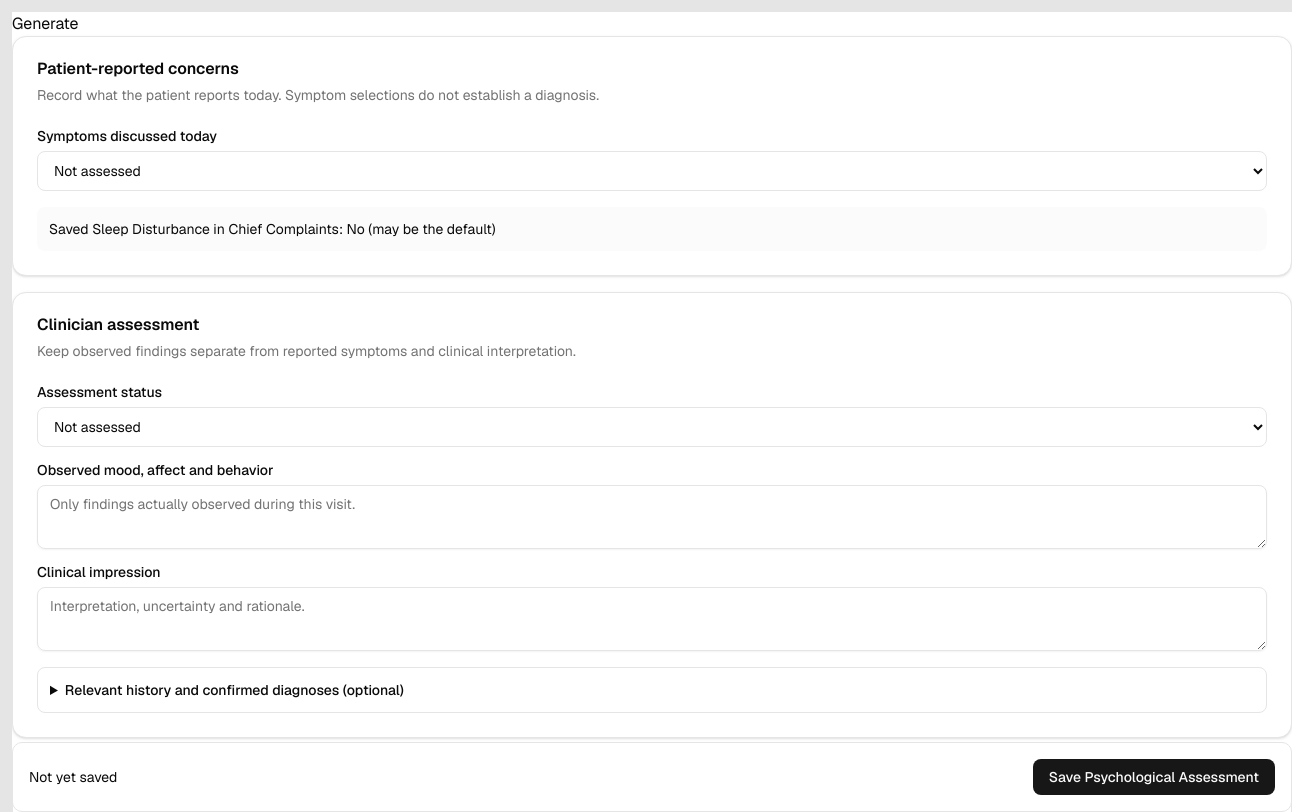
Test case: psychological assessment form › clears conflicting symptom details only after confirmation
Select "Symptoms reported" in the dropdown labelled "Symptoms discussed today": (652, 171) x1=37 y1=151 x2=1267 y2=191
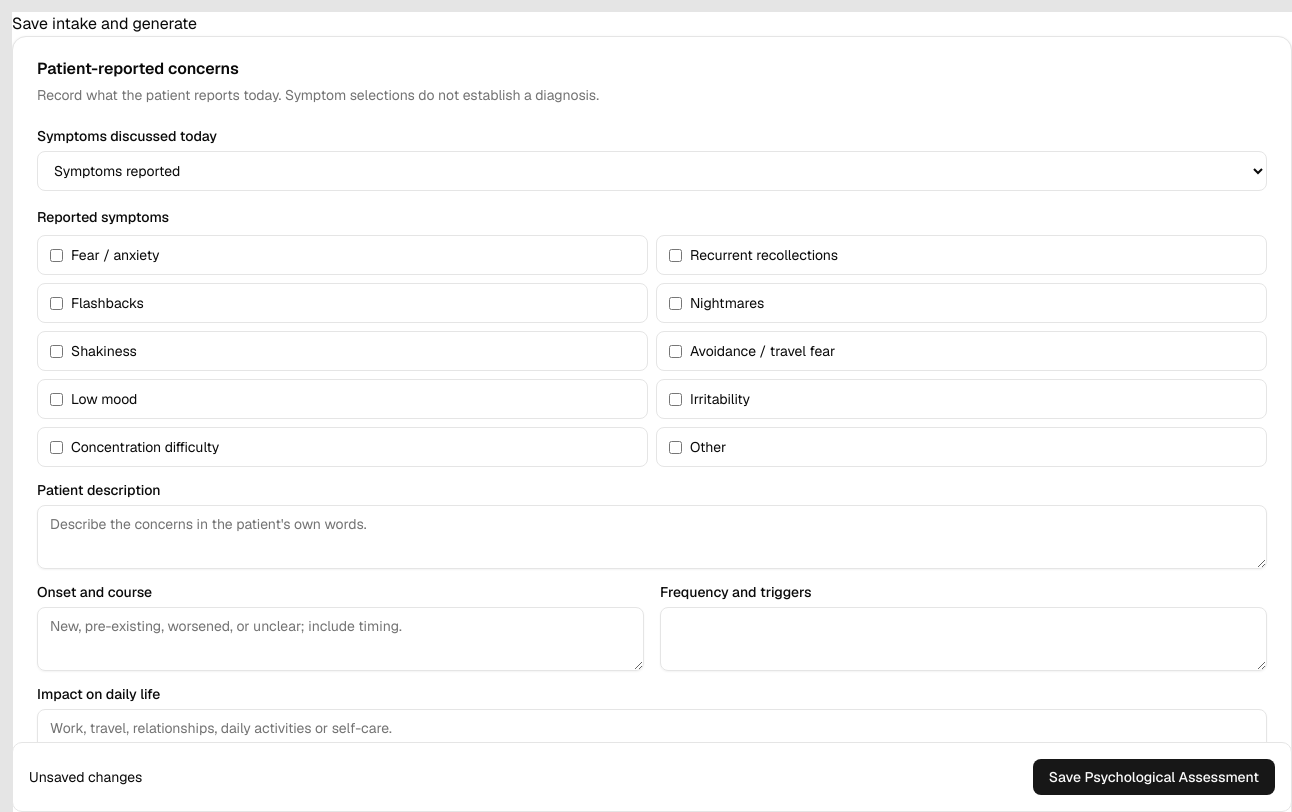
Click the checkbox labelled "Nightmares": (676, 303) x1=669 y1=296 x2=682 y2=310
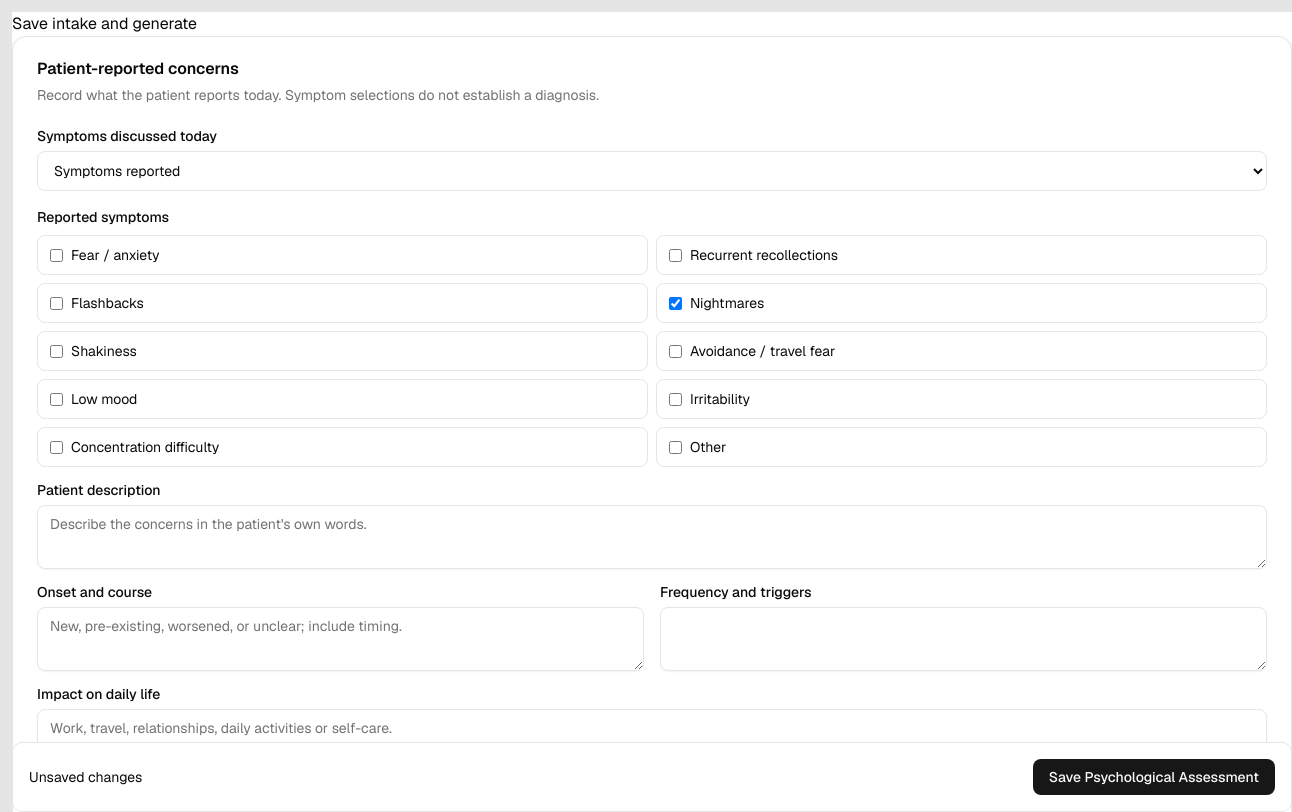
Select "No symptoms reported" in the dropdown labelled "Symptoms discussed today": (652, 171) x1=37 y1=151 x2=1267 y2=191
Now the checkbox labelled "Nightmares" is checked, box x1=669 y1=296 x2=682 y2=310
Select "No symptoms reported" in the dropdown labelled "Symptoms discussed today": (652, 171) x1=37 y1=151 x2=1267 y2=191
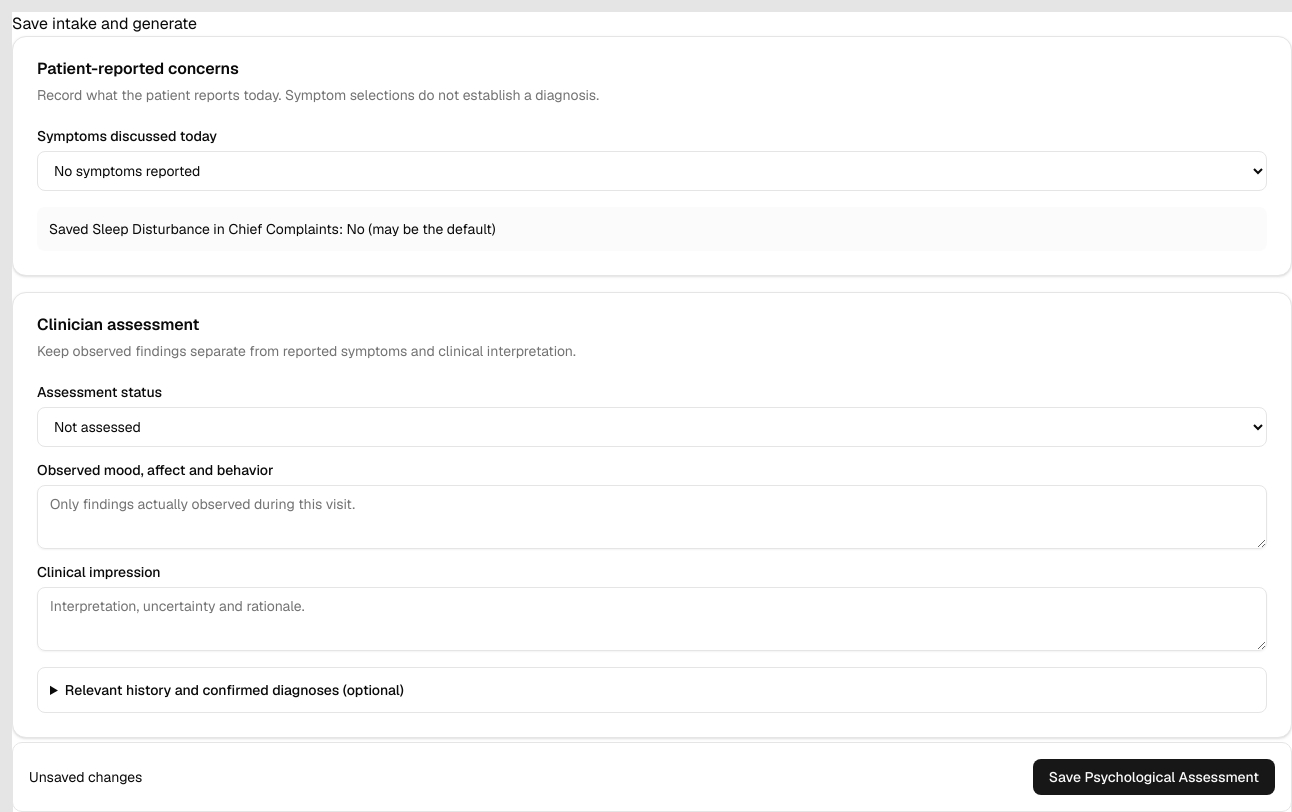
Select "Symptoms reported" in the dropdown labelled "Symptoms discussed today": (652, 171) x1=37 y1=151 x2=1267 y2=191
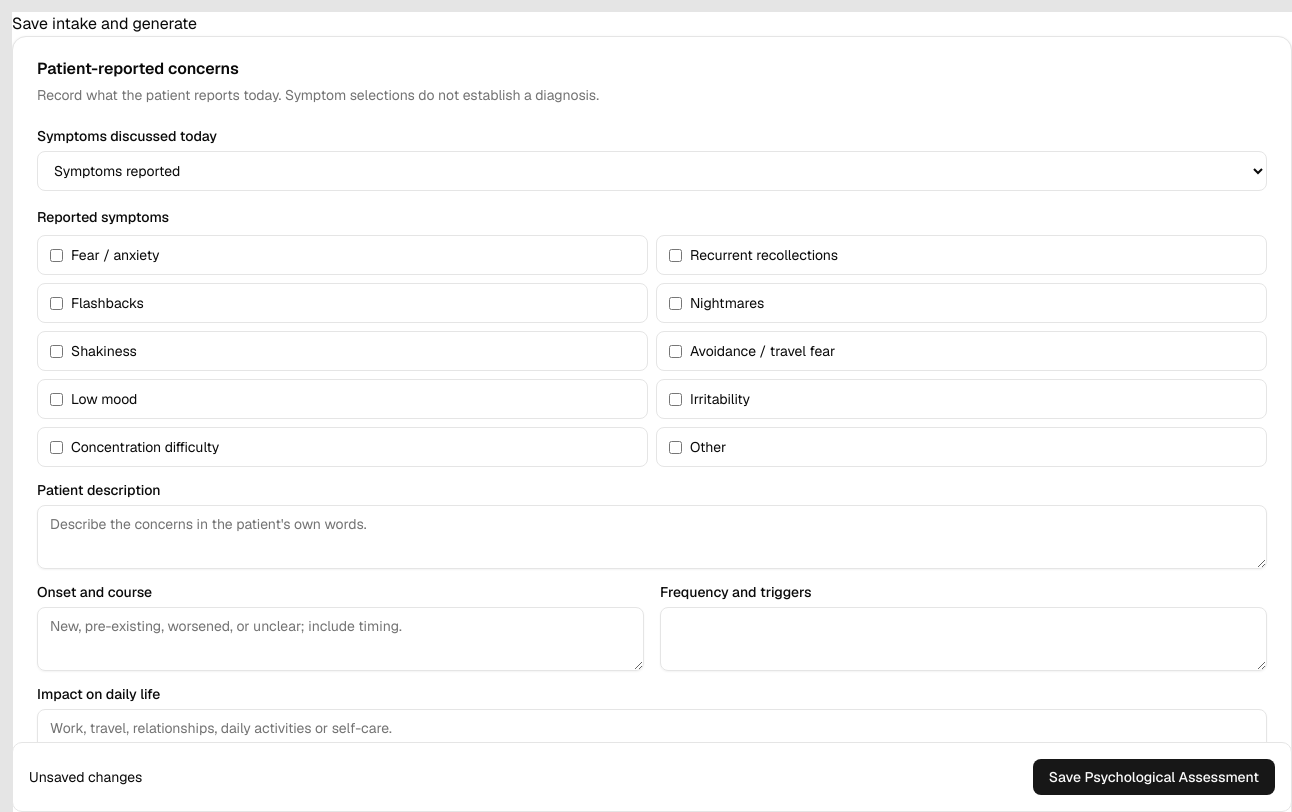
Now the checkbox labelled "Nightmares" is not checked, box x1=669 y1=296 x2=682 y2=310
